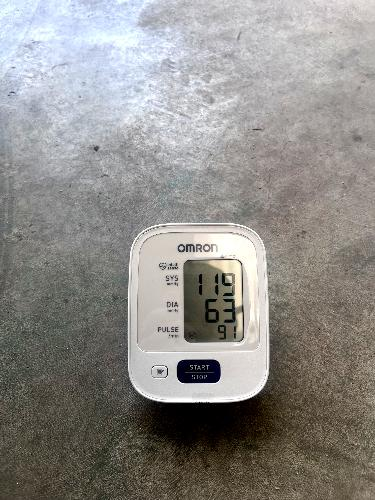bpm: (182, 259, 244, 344)
